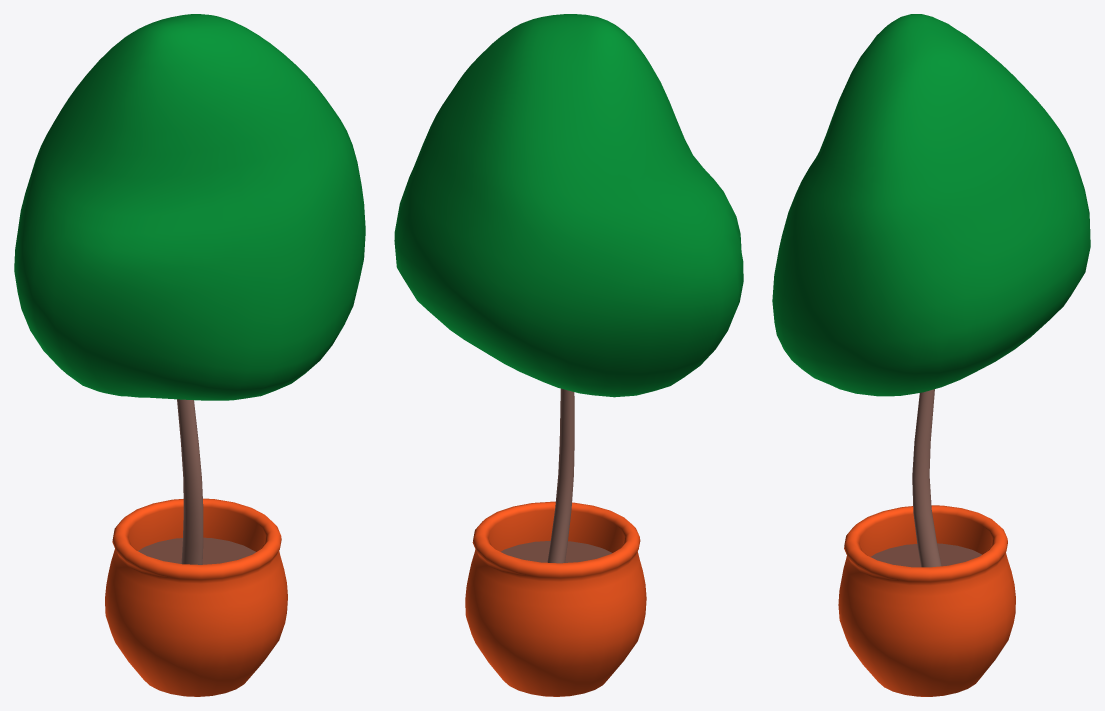
The model's file is City_1_Tree_1.glb.
3 renders of one model, left to right at view 1: azimuth 30°, elevation 25°; view 2: azimuth 150°, elevation 25°; view 3: azimuth 270°, elevation 25°, orthographic. The views are drawn at different scales.
Parts seen in each view (by area): view 1: City_1_Tree_1; view 2: City_1_Tree_1; view 3: City_1_Tree_1.
Part boxes in pixels (x1=…): City_1_Tree_1: x1=14, y1=14, x2=365, y2=696; City_1_Tree_1: x1=394, y1=14, x2=743, y2=696; City_1_Tree_1: x1=772, y1=14, x2=1090, y2=696.
Bounding box in the file's own units: 1.77 × 3.46 × 1.55.
1 material, 1 textured.
